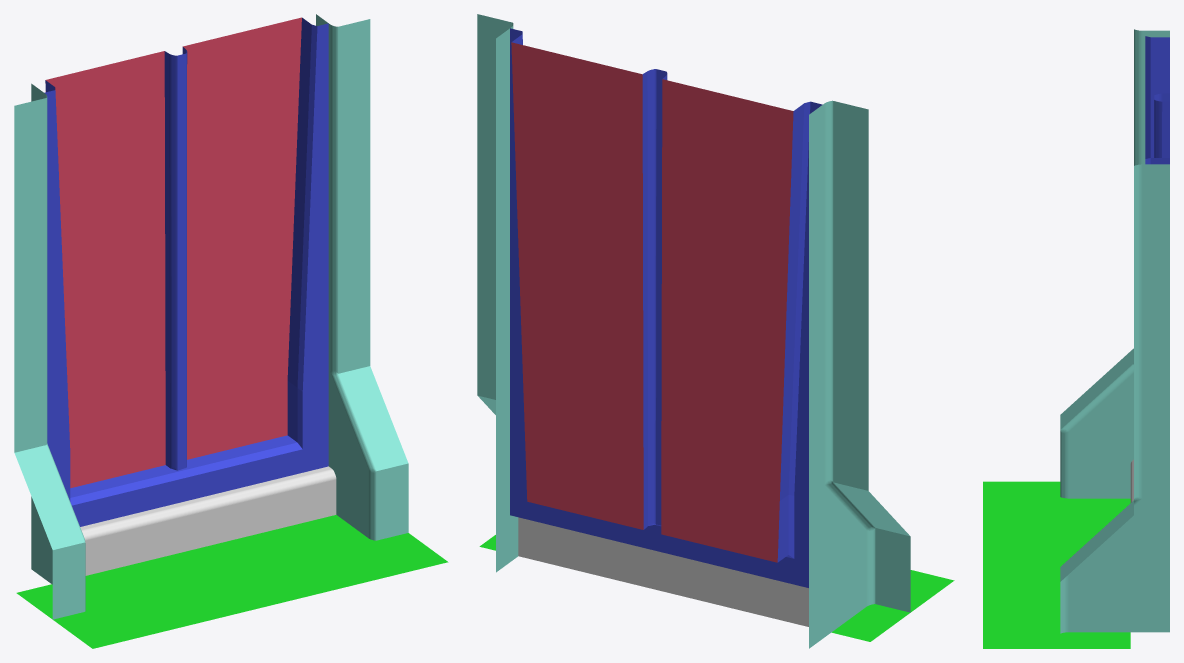
File: Small_Wall.fbx
3 views of the same model, side by side, from view 1: azimuth 30°, elevation 25°; view 2: azimuth 150°, elevation 25°; view 3: azimuth 270°, elevation 25° (orthographic). The views are drawn at different scales.
Visible parts, largest first — view 1: Wall.010; view 2: Wall.010; view 3: Wall.010.
Boxes of the visible parts, x1=… form: Wall.010: x1=14, y1=14, x2=448, y2=648; Wall.010: x1=477, y1=14, x2=954, y2=648; Wall.010: x1=983, y1=29, x2=1169, y2=648.
Size of the model in its own units: 537 by 700 by 253.
